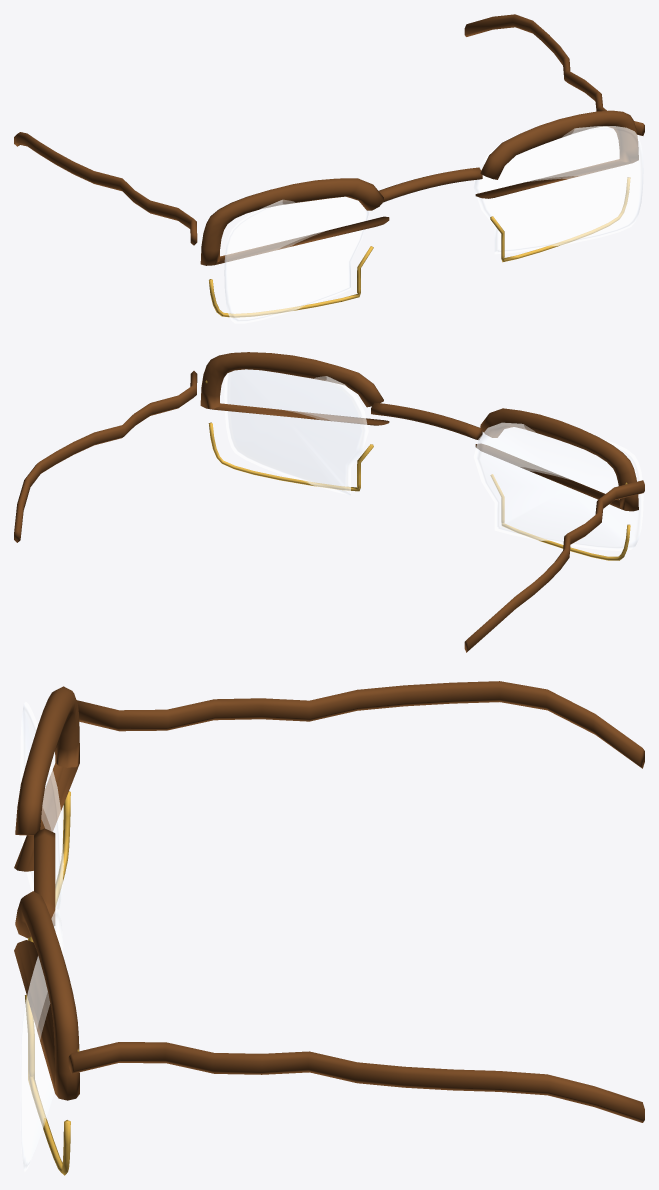
Rendered from elegant_optical_glasses.glb.
3 views of the same model, one above another, from view 1: azimuth 30°, elevation 25°; view 2: azimuth 150°, elevation 25°; view 3: azimuth 270°, elevation 25° (orthographic). The views are drawn at different scales.
Visible parts, largest first — view 1: elegant_optical_glasses; view 2: elegant_optical_glasses; view 3: elegant_optical_glasses.
Boxes of the visible parts, x1,y1,x2,y2 form: elegant_optical_glasses: (14,14,644,323); elegant_optical_glasses: (14,352,644,652); elegant_optical_glasses: (14,681,644,1175).
Size of the model in its own units: 0.2414 by 0.0586 by 0.1633.
